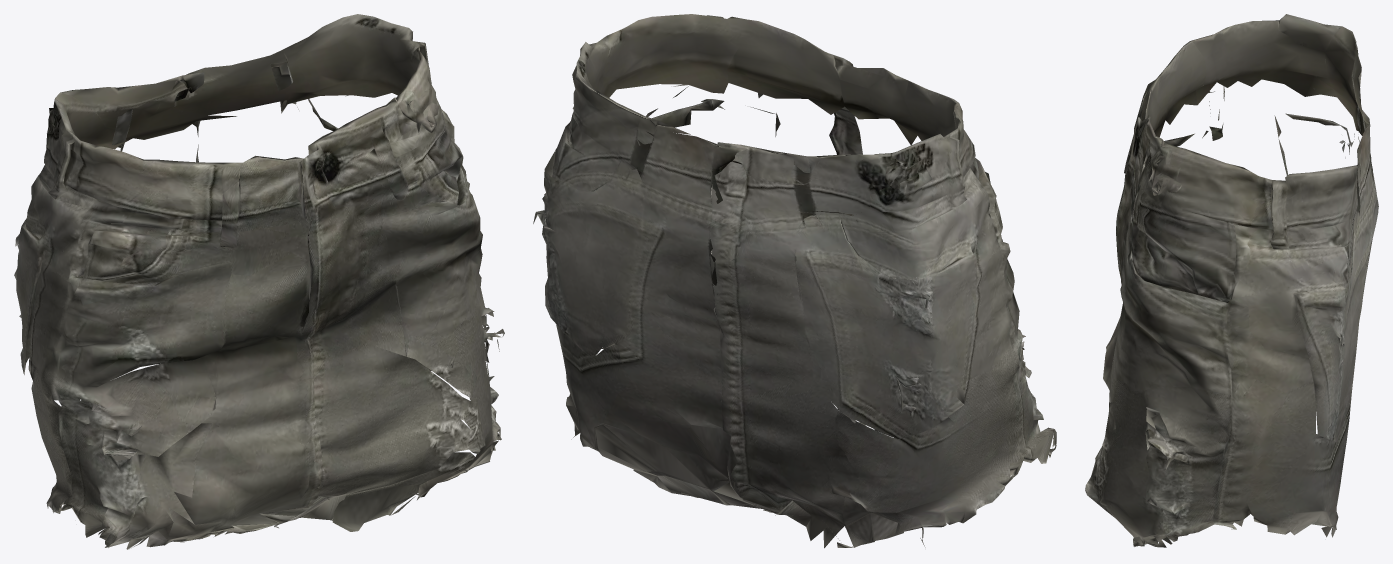
3 views of the same model, side by side, from view 1: azimuth 30°, elevation 25°; view 2: azimuth 150°, elevation 25°; view 3: azimuth 270°, elevation 25° (orthographic). The views are drawn at different scales.
Parts seen in each view (by area): view 1: Roupa_007; view 2: Roupa_007; view 3: Roupa_007.
Part boxes in pixels (x1=…): Roupa_007: x1=14, y1=14, x2=504, y2=549; Roupa_007: x1=533, y1=14, x2=1056, y2=548; Roupa_007: x1=1085, y1=14, x2=1378, y2=547.
Size of the model in its own units: 0.3902 by 0.3776 by 0.2335.
Materials: 1 (1 with a texture image).
